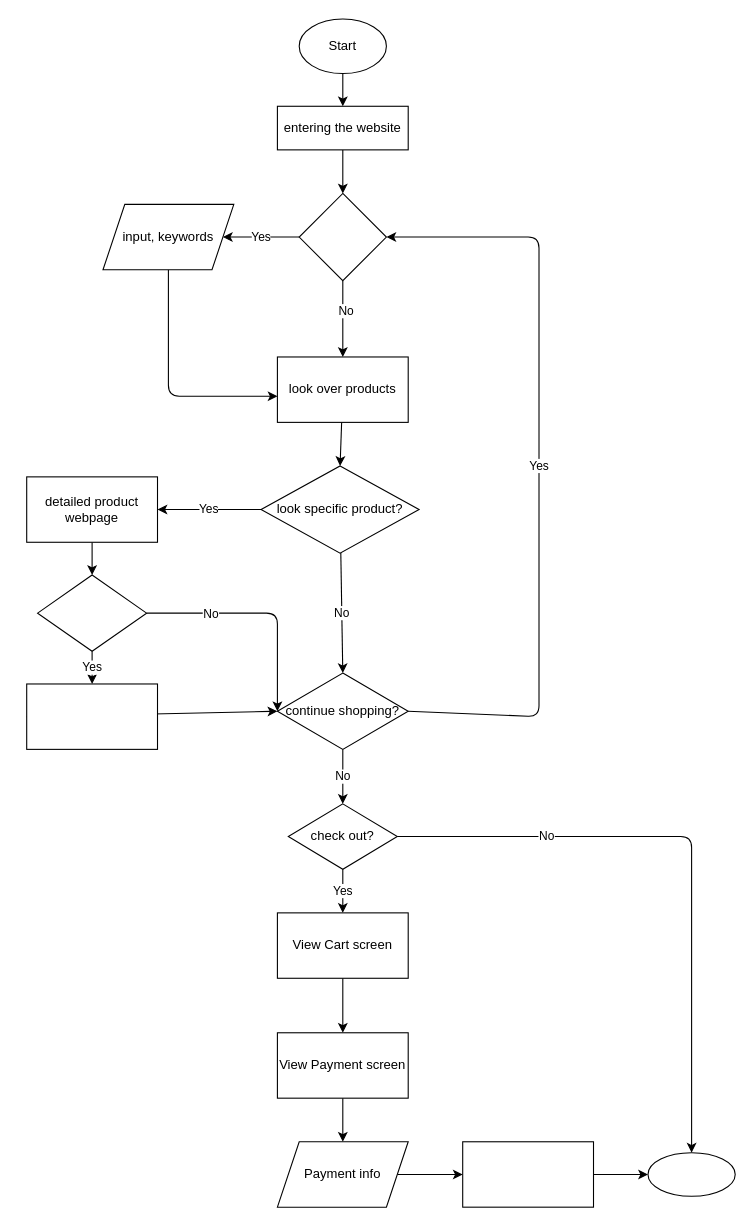
This 754x1226 diagram has some shape labels left out. Here are the shapes that lost their labels. From the top down, the centre of each, then its label:
the point at 342,236: Search?
the point at 92,612: add to cart?
the point at 92,716: added confirmation
the point at 528,1174: order confirmation screen, Email
the point at 691,1174: Leave
